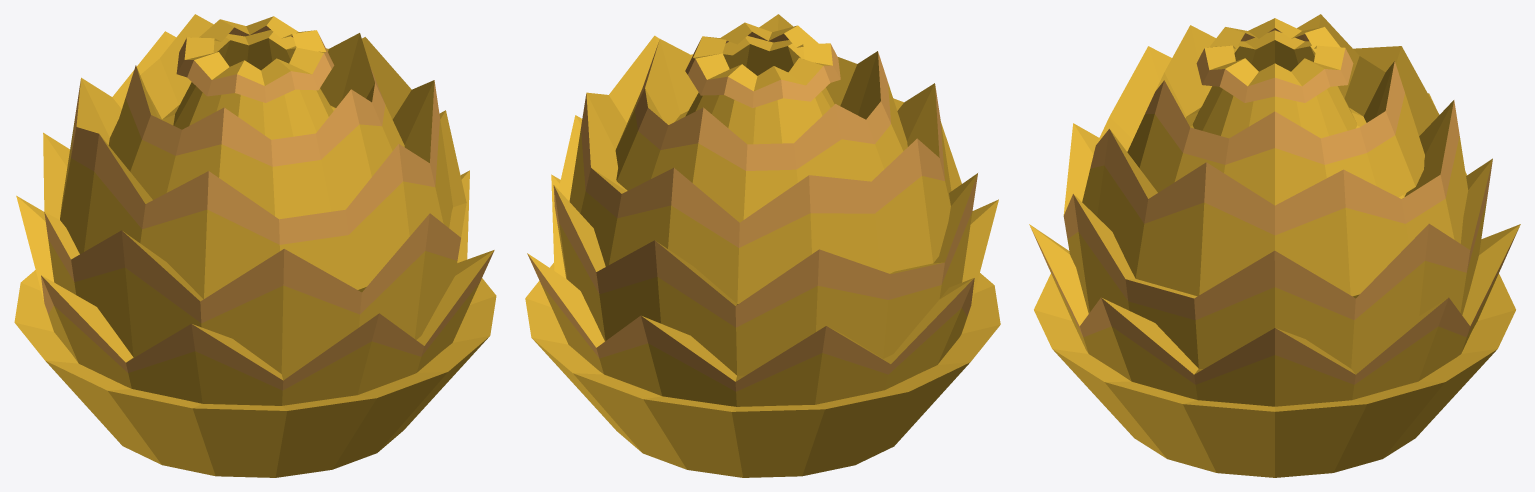
File: bush.fbx
3 views of the same model, side by side, from view 1: azimuth 30°, elevation 25°; view 2: azimuth 150°, elevation 25°; view 3: azimuth 270°, elevation 25° (orthographic).
Visible parts, largest first — view 1: Sphere; view 2: Sphere; view 3: Sphere.
Part boxes in pixels (x1,y1,x2,y2): Sphere: (14, 14, 496, 477); Sphere: (525, 14, 1000, 477); Sphere: (1029, 14, 1520, 477).
Size of the model in its own units: 228 by 207 by 228.
